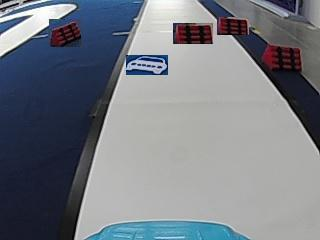bomb: (262, 44, 302, 69)
